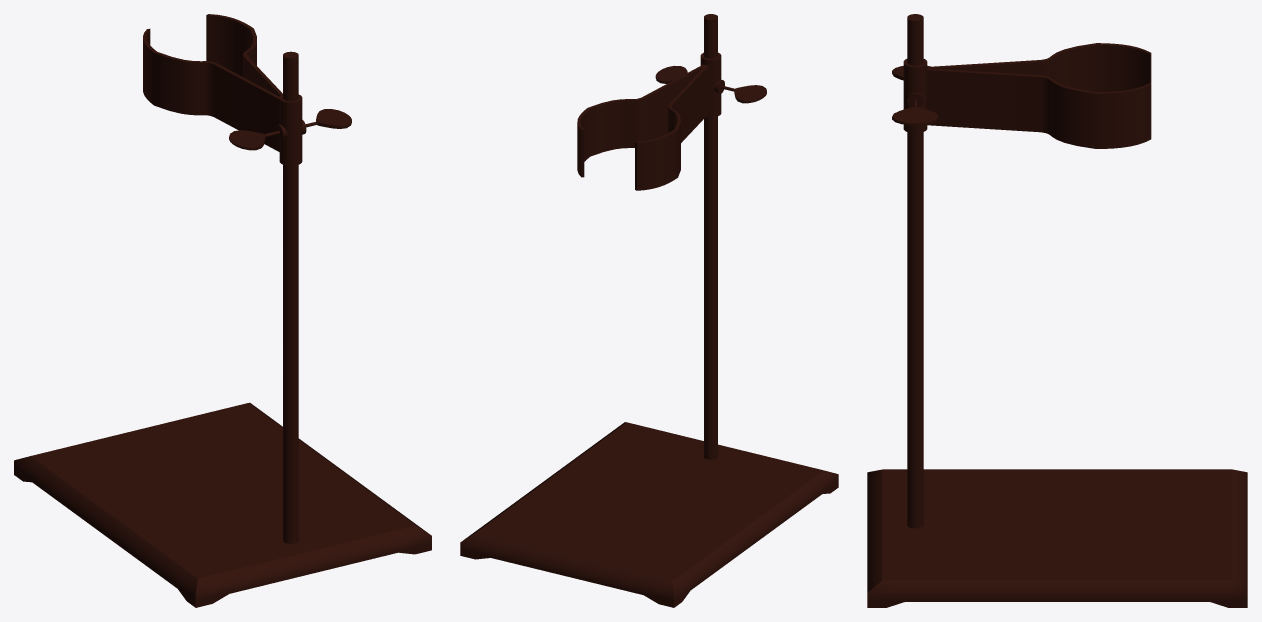
Rendered from EH BeakerStand.fbx.
The picture shows the model from 3 angles, left to right: view 1: azimuth 30°, elevation 25°; view 2: azimuth 150°, elevation 25°; view 3: azimuth 270°, elevation 25°; orthographic projection. The views are drawn at different scales.
Visible parts, largest first — view 1: Box001, Line002, Cylinder001, Line001, Cylinder002, Cylinder005, Cylinder006; view 2: Box001, Cylinder001, Line001, Line002, Cylinder002; view 3: Box001, Line001, Cylinder001, Line002, Cylinder002, Cylinder006.
Boxes of the visible parts, box(x1,y1,x2,y2) form: Box001: box(14, 402, 431, 607); Line002: box(143, 28, 279, 151); Cylinder001: box(283, 51, 298, 543); Line001: box(206, 14, 282, 96); Cylinder002: box(279, 94, 302, 165); Cylinder005: box(229, 130, 265, 150); Cylinder006: box(316, 109, 351, 128); Box001: box(460, 422, 838, 607); Cylinder001: box(704, 14, 717, 459); Line001: box(577, 64, 705, 177); Line002: box(635, 65, 709, 190); Cylinder002: box(700, 52, 721, 117); Box001: box(867, 469, 1247, 607); Line001: box(926, 68, 1151, 148); Cylinder001: box(907, 14, 923, 528); Line002: box(927, 43, 1151, 92); Cylinder002: box(903, 59, 927, 133); Cylinder006: box(892, 106, 938, 125).
Bounding box in the file's own units: 24.44 × 50.17 × 32.59.
